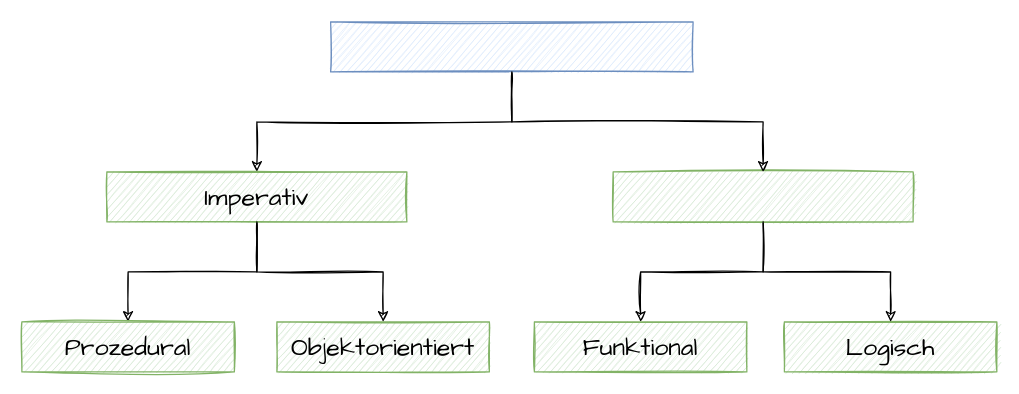
Some shapes in this 1019 by 394 pixel diagram are drawn without their labels. Here are the shapes that lost their labels. From the top down, the centre of each, then its label:
point (511, 46): Programmierparadigmen
point (762, 196): Deklarativ
